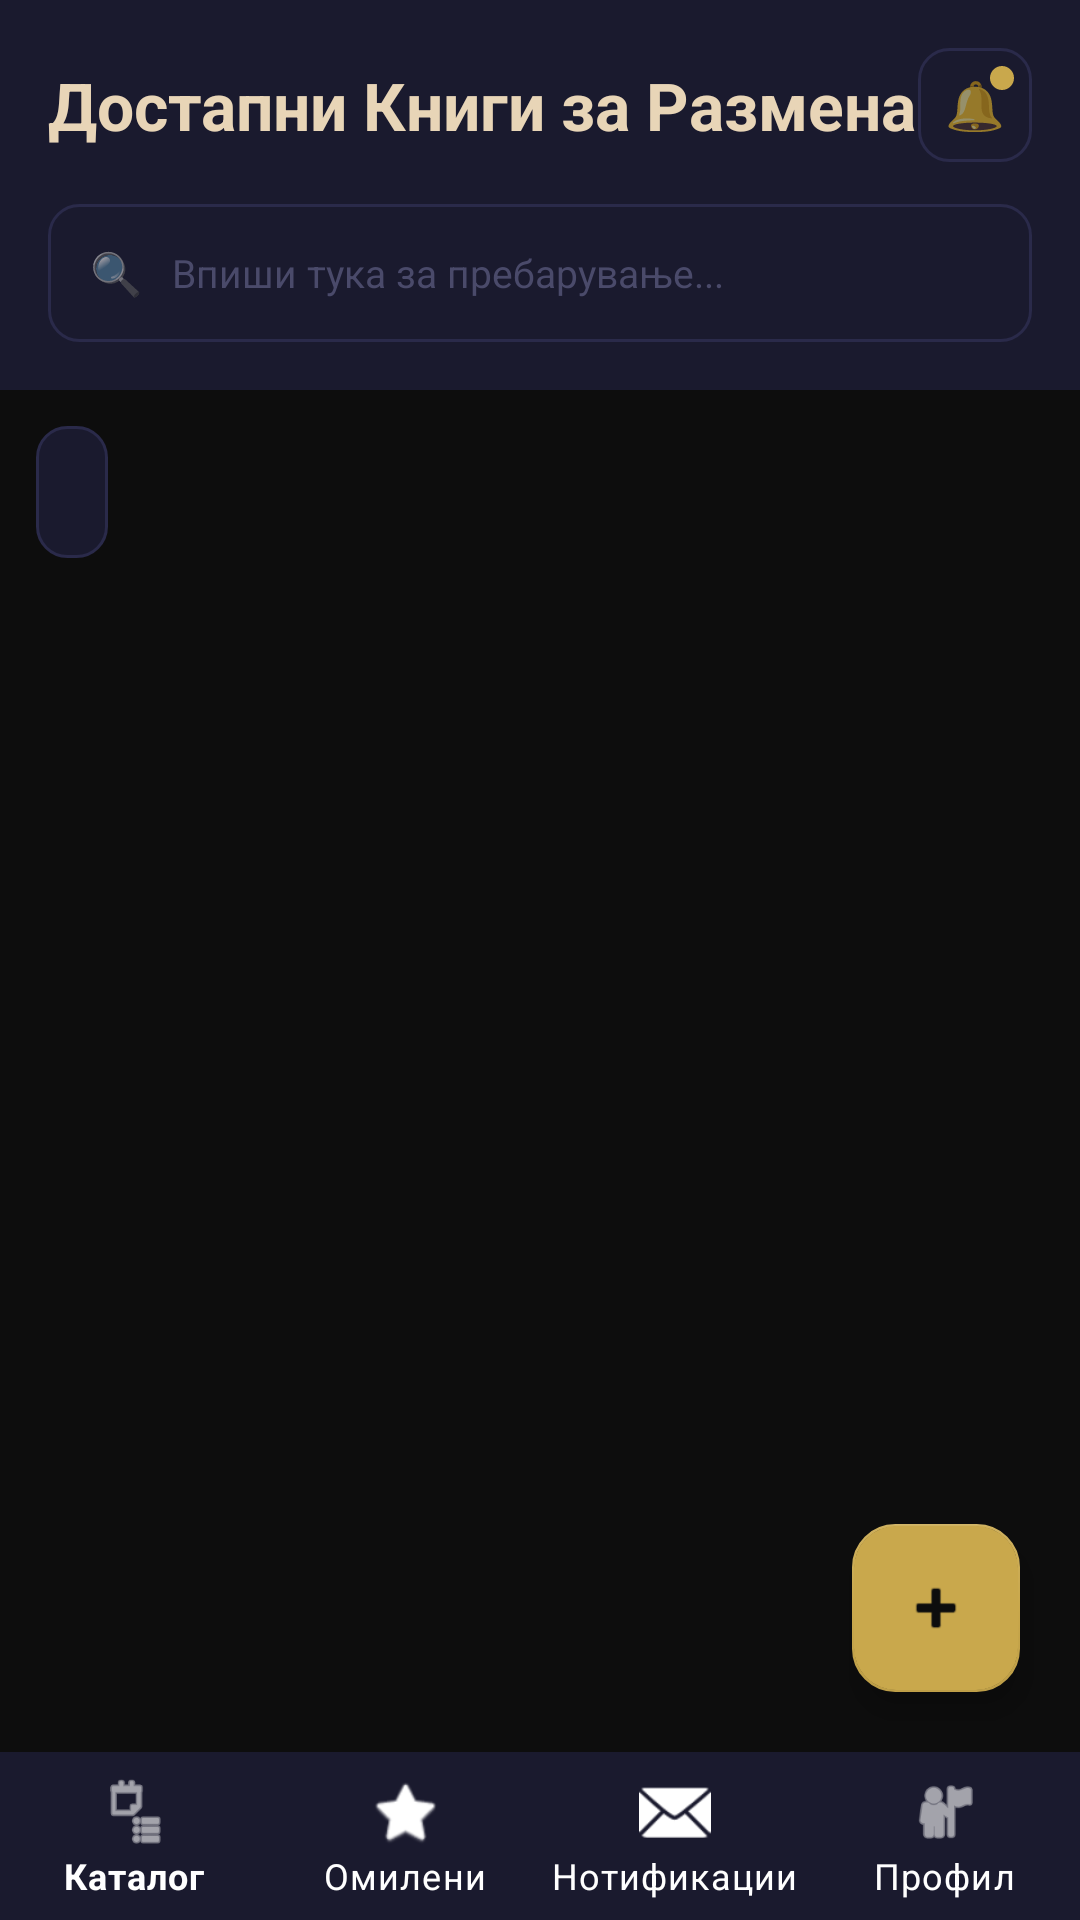

Locate icon controls on the screen. Image size 1080w x 1920h, boxes as bbox=[x1, y1, x2, y2].
add: bbox=[852, 1524, 1020, 1692]
